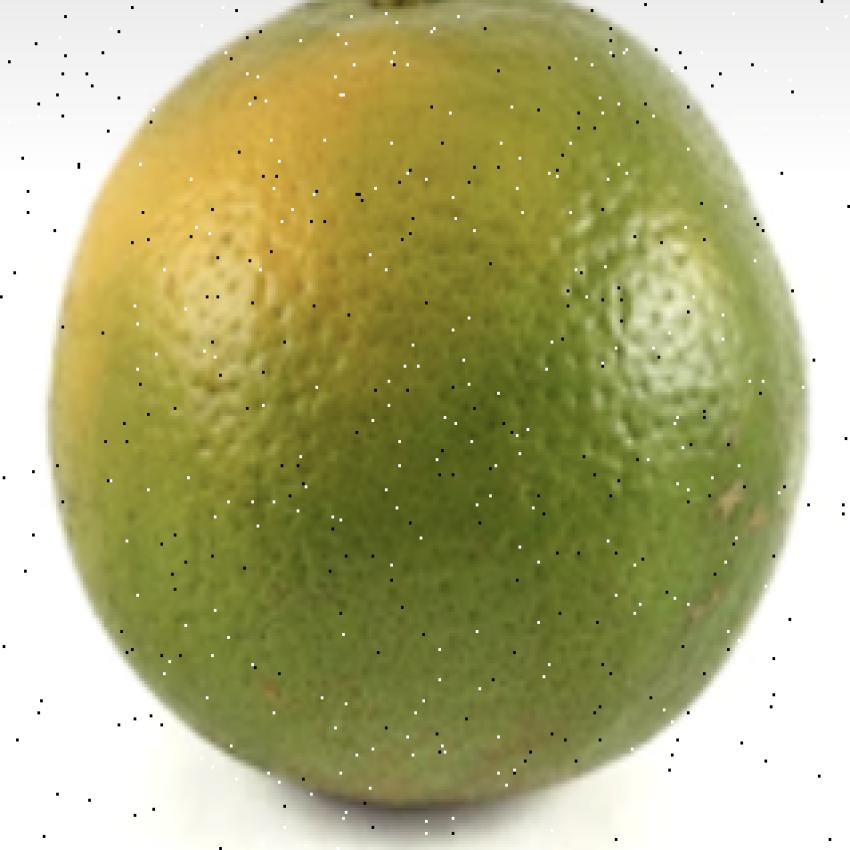Mal estado: (38, 0, 805, 822)
